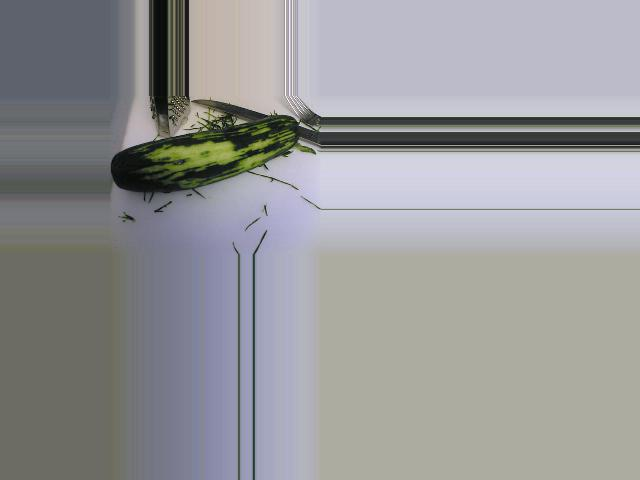cucumber: (111, 114, 300, 193)
